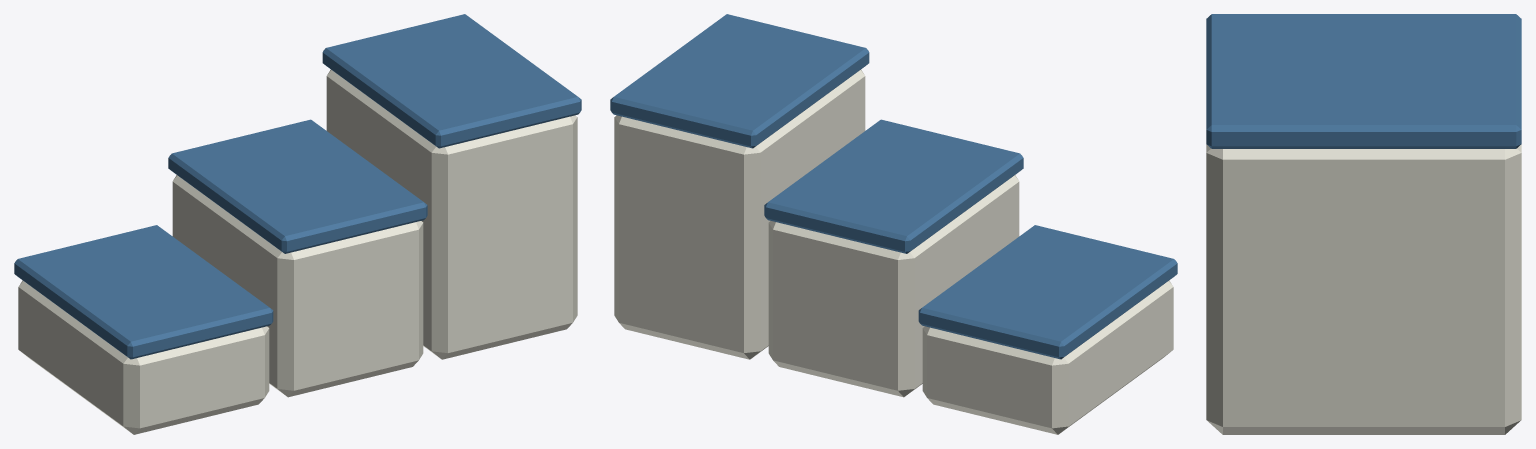
Rendered from tiered_display_pedestal.glb.
The picture shows the model from 3 angles, left to right: view 1: azimuth 30°, elevation 25°; view 2: azimuth 150°, elevation 25°; view 3: azimuth 270°, elevation 25°; orthographic projection. The views are drawn at different scales.
Parts seen in each view (by area): view 1: display_block (×3), display_top (×3); view 2: display_block (×3), display_top (×3); view 3: display_block, display_top (×3).
Part boxes in pixels (bbox=[...]): display_block (×3): bbox=[18, 69, 577, 434]; display_top (×3): bbox=[14, 14, 581, 359]; display_block (×3): bbox=[614, 69, 1173, 434]; display_top (×3): bbox=[610, 14, 1177, 359]; display_block: bbox=[1206, 144, 1521, 434]; display_top (×3): bbox=[1206, 14, 1521, 148].
Bounding box in the file's own units: 0.56 × 0.2755 × 0.25.
